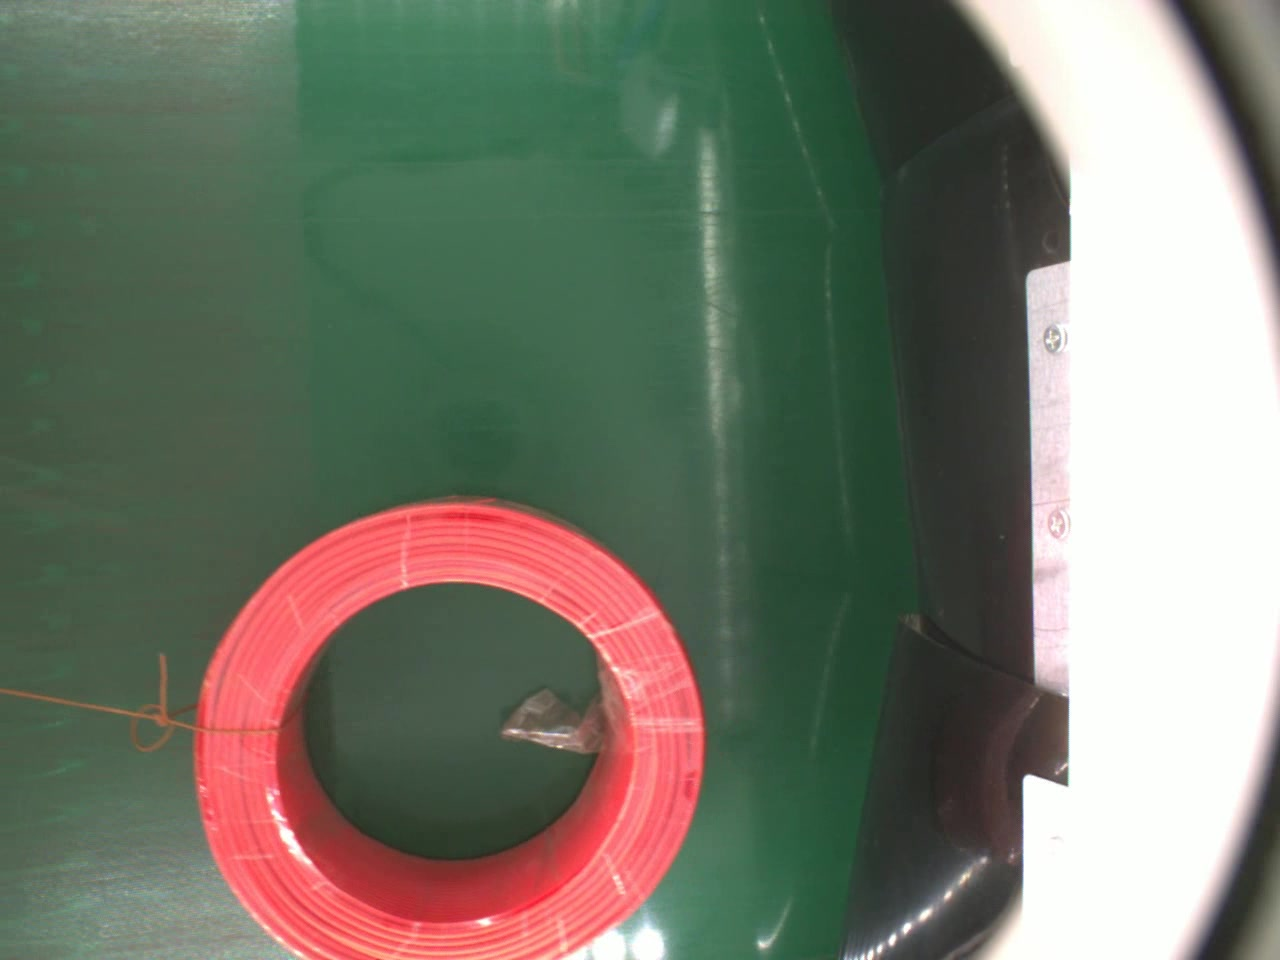red: (191, 494, 711, 960)
